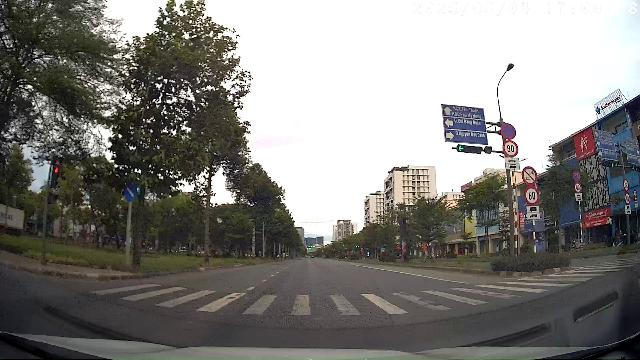127-toc-do-toi-da-60: (524, 186, 540, 204), (625, 192, 631, 206)
127-toc-do-toi-da-80: (503, 139, 519, 156), (574, 183, 582, 193)
130-cam-dung-va-do-xe: (500, 123, 516, 139), (572, 170, 580, 182)
